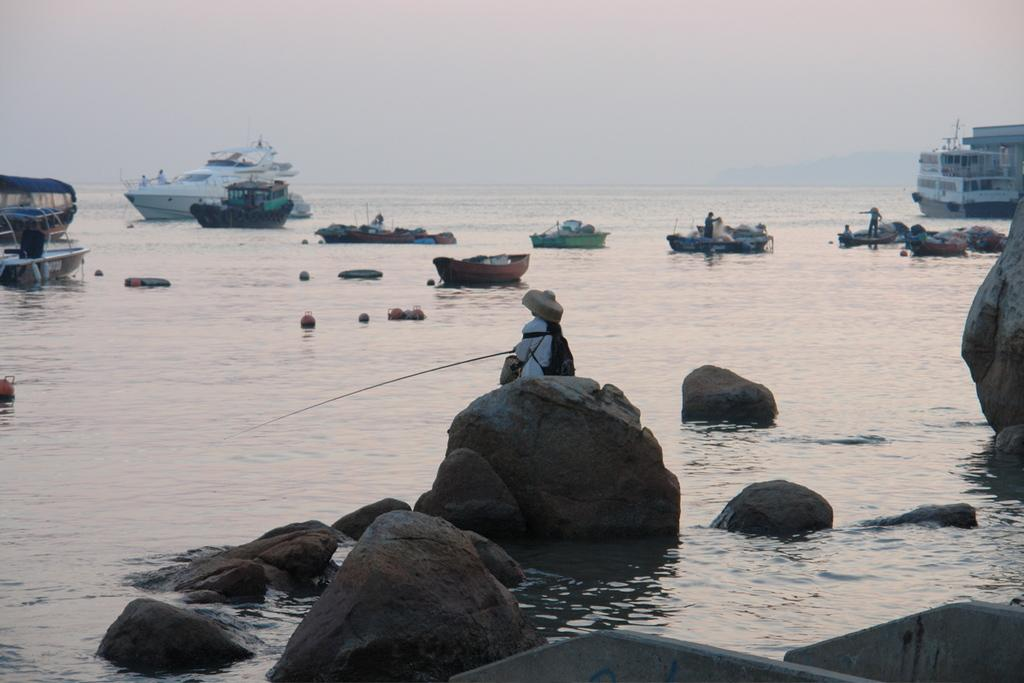PassengerShip: (119, 138, 299, 220), (911, 132, 1023, 222), (190, 177, 296, 232), (0, 173, 80, 239)
